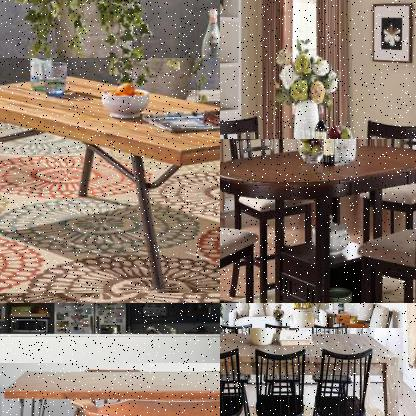table: (0, 58, 219, 294), (220, 139, 415, 302), (220, 328, 404, 415), (0, 363, 219, 415)
